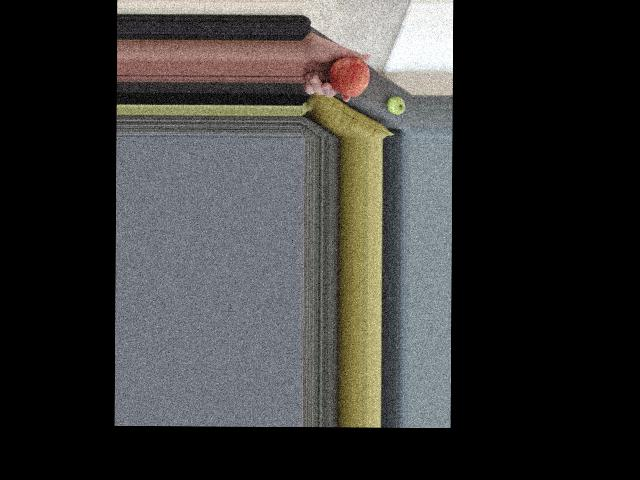apple: (382, 95, 406, 119)
